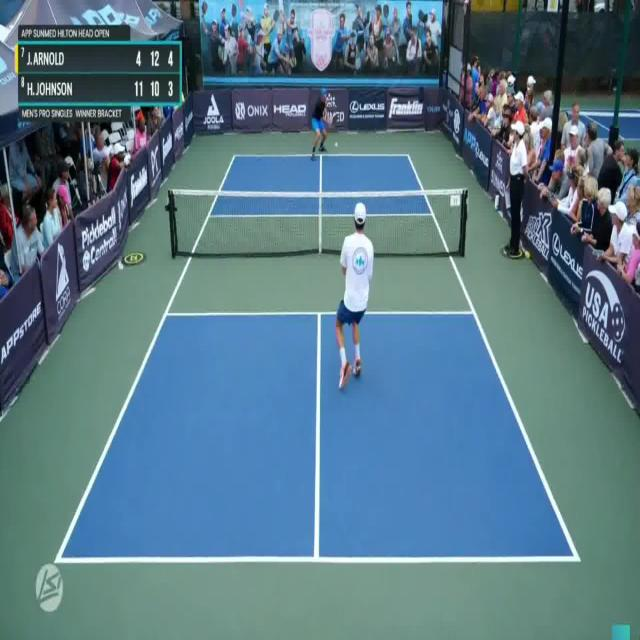Court: (57, 155, 577, 561)
ball: (333, 139, 340, 151)
